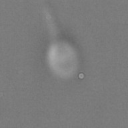normal: (36, 1, 63, 38)
